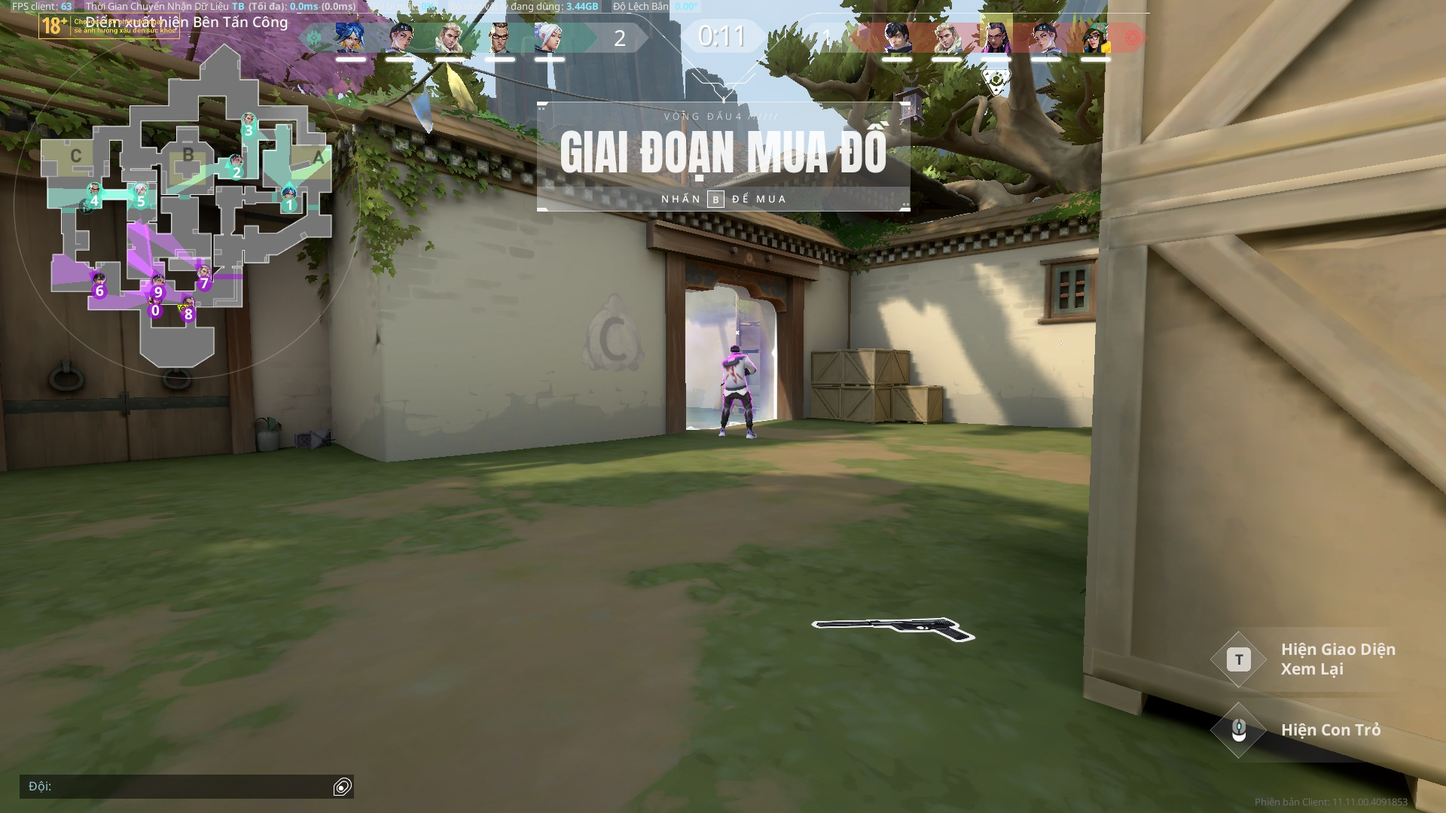body: (722, 354, 749, 385)
head: (728, 344, 741, 355)
